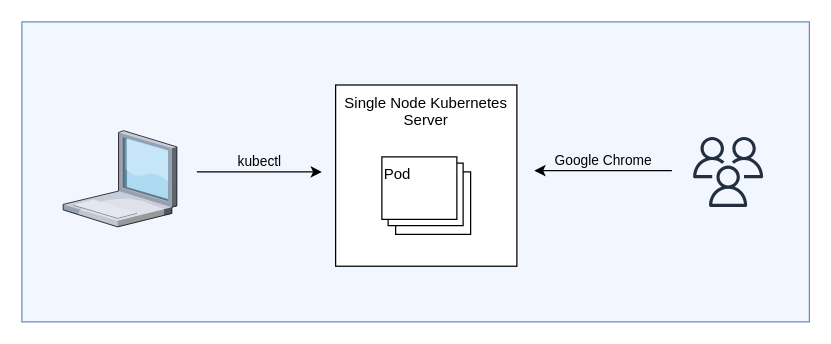
Image size: 831x344. Some labels were removed from this diagram. The centre of each missing label's shape, as x and y in pixels:
IT Admin: the point at 119,178
Online Shoppers: the point at 727,171
